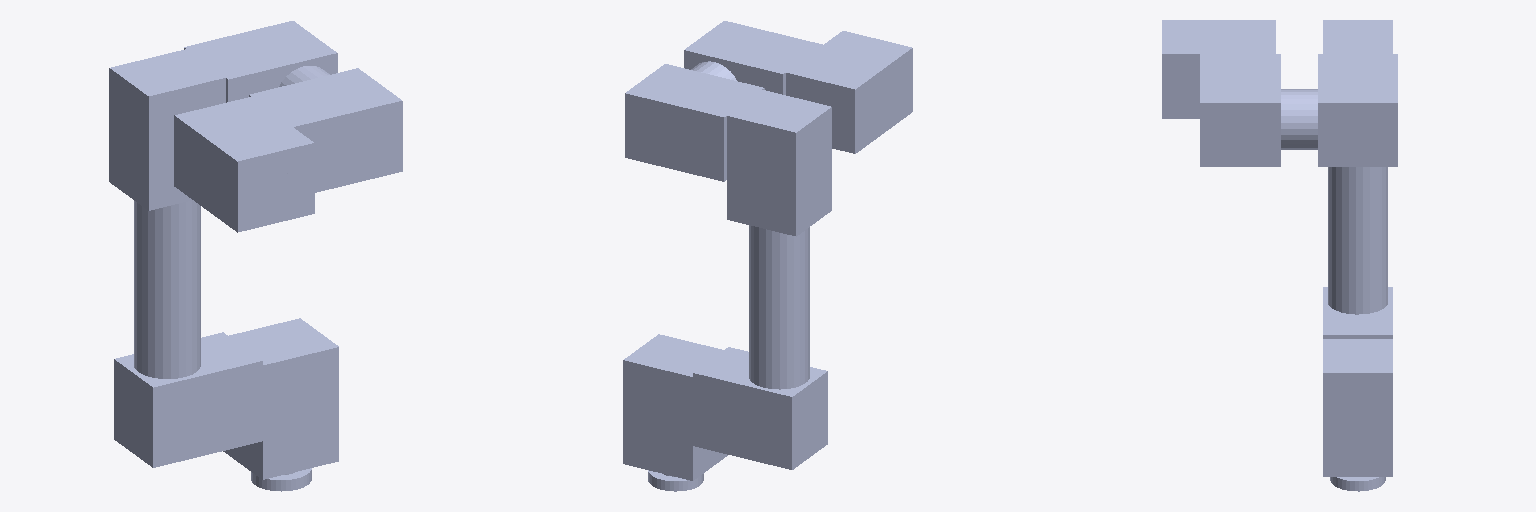
URDF robot description (robotic-arm-urdf-min):
<?xml version="1.0" encoding="utf-8"?>
<!-- This URDF was automatically created by SolidWorks to URDF Exporter! Originally created by [author] ([email redacted]) 
     Commit Version: 1.6.0-4-g7f85cfe  Build Version: 1.6.7995.38578
     For more information, please see http://wiki.ros.org/sw_urdf_exporter -->
<robot
  name="robotic-arm-urdf-min">
  <link
    name="base_link">
    <inertial>
      <origin
        xyz="0 0 0.0075828"
        rpy="0 0 0" />
      <mass
        value="0.026904" />
      <inertia
        ixx="4.2244E-06"
        ixy="-1.3609E-22"
        ixz="4.4964E-24"
        iyy="4.2244E-06"
        iyz="-4.654E-23"
        izz="6.9345E-06" />
    </inertial>
    <visual>
      <origin
        xyz="0 0 0"
        rpy="0 0 0" />
      <geometry>
        <mesh
          filename="package://robotic-arm-urdf-min/meshes/base_link.STL" />
      </geometry>
      <material
        name="">
        <color
          rgba="0.79216 0.81961 0.93333 1" />
      </material>
    </visual>
    <collision>
      <origin
        xyz="0 0 0"
        rpy="0 0 0" />
      <geometry>
        <mesh
          filename="package://robotic-arm-urdf-min/meshes/base_link.STL" />
      </geometry>
    </collision>
  </link>
  <link
    name="link_1">
    <inertial>
      <origin
        xyz="-0.00047629 6.9389E-18 -0.051912"
        rpy="0 0 0" />
      <mass
        value="0.46378" />
      <inertia
        ixx="0.00056635"
        ixy="9.8213E-21"
        ixz="-4.2165E-06"
        iyy="0.00060589"
        iyz="4.679E-21"
        izz="0.00036421" />
    </inertial>
    <visual>
      <origin
        xyz="0 0 0"
        rpy="0 0 0" />
      <geometry>
        <mesh
          filename="package://robotic-arm-urdf-min/meshes/link_1.STL" />
      </geometry>
      <material
        name="">
        <color
          rgba="0.79216 0.81961 0.93333 1" />
      </material>
    </visual>
    <collision>
      <origin
        xyz="0 0 0"
        rpy="0 0 0" />
      <geometry>
        <mesh
          filename="package://robotic-arm-urdf-min/meshes/link_1.STL" />
      </geometry>
    </collision>
  </link>
  <joint
    name="joint_1"
    type="revolute">
    <origin
      xyz="0 0 0.02"
      rpy="-3.1416 0 3.1416" />
    <parent
      link="base_link" />
    <child
      link="link_1" />
    <axis
      xyz="0 0 -1" />
    <limit
      lower="-3.14"
      upper="3.14"
      effort="300"
      velocity="3" />
  </joint>
  <link
    name="link_2">
    <inertial>
      <origin
        xyz="-2.7756E-17 0.052102 0.06051"
        rpy="0 0 0" />
      <mass
        value="0.84392" />
      <inertia
        ixx="0.0014887"
        ixy="2.3214E-19"
        ixz="8.5887E-20"
        iyy="0.00071009"
        iyz="4.2165E-06"
        izz="0.001247" />
    </inertial>
    <visual>
      <origin
        xyz="0 0 0"
        rpy="0 0 0" />
      <geometry>
        <mesh
          filename="package://robotic-arm-urdf-min/meshes/link_2.STL" />
      </geometry>
      <material
        name="">
        <color
          rgba="0.79216 0.81961 0.93333 1" />
      </material>
    </visual>
    <collision>
      <origin
        xyz="0 0 0"
        rpy="0 0 0" />
      <geometry>
        <mesh
          filename="package://robotic-arm-urdf-min/meshes/link_2.STL" />
      </geometry>
    </collision>
  </link>
  <joint
    name="joint_2"
    type="revolute">
    <origin
      xyz="0.03625 0 -0.071"
      rpy="-1.5707963267949 0 -1.5707963267949" />
    <parent
      link="link_1" />
    <child
      link="link_2" />
    <axis
      xyz="0 0 -1" />
    <limit
      lower="-1.57"
      upper="1.57"
      effort="300"
      velocity="3" />
  </joint>
  <link
    name="link_3">
    <inertial>
      <origin
        xyz="0.00047629 -6.9389E-18 -0.051912"
        rpy="0 0 0" />
      <mass
        value="0.46378" />
      <inertia
        ixx="0.00056635"
        ixy="-1.2546E-20"
        ixz="4.2165E-06"
        iyy="0.00060589"
        iyz="1.2832E-20"
        izz="0.00036421" />
    </inertial>
    <visual>
      <origin
        xyz="0 0 0"
        rpy="0 0 0" />
      <geometry>
        <mesh
          filename="package://robotic-arm-urdf-min/meshes/link_3.STL" />
      </geometry>
      <material
        name="">
        <color
          rgba="0.79216 0.81961 0.93333 1" />
      </material>
    </visual>
    <collision>
      <origin
        xyz="0 0 0"
        rpy="0 0 0" />
      <geometry>
        <mesh
          filename="package://robotic-arm-urdf-min/meshes/link_3.STL" />
      </geometry>
    </collision>
  </link>
  <joint
    name="joint_3"
    type="revolute">
    <origin
      xyz="0 0.19625 0.0709999999999999"
      rpy="1.5707963267949 -1.5707963267949 0" />
    <parent
      link="link_2" />
    <child
      link="link_3" />
    <axis
      xyz="0 0 -1" />
    <limit
      lower="-3.14"
      upper="3.14"
      effort="300"
      velocity="3" />
  </joint>
  <link
    name="link_4">
    <inertial>
      <origin
        xyz="0.00047629 5.5511E-17 -0.051912"
        rpy="0 0 0" />
      <mass
        value="0.46378" />
      <inertia
        ixx="0.00056635"
        ixy="-2.7474E-20"
        ixz="4.2165E-06"
        iyy="0.00060589"
        iyz="-5.988E-20"
        izz="0.00036421" />
    </inertial>
    <visual>
      <origin
        xyz="0 0 0"
        rpy="0 0 0" />
      <geometry>
        <mesh
          filename="package://robotic-arm-urdf-min/meshes/link_4.STL" />
      </geometry>
      <material
        name="">
        <color
          rgba="0.79216 0.81961 0.93333 1" />
      </material>
    </visual>
    <collision>
      <origin
        xyz="0 0 0"
        rpy="0 0 0" />
      <geometry>
        <mesh
          filename="package://robotic-arm-urdf-min/meshes/link_4.STL" />
      </geometry>
    </collision>
  </link>
  <joint
    name="joint_4"
    type="revolute">
    <origin
      xyz="-0.03625 0 -0.071"
      rpy="-1.5708 0 -1.5708" />
    <parent
      link="link_3" />
    <child
      link="link_4" />
    <axis
      xyz="0 0 -1" />
    <limit
      lower="-3.14"
      upper="0"
      effort="300"
      velocity="3" />
  </joint>
  <link
    name="link_5">
    <inertial>
      <origin
        xyz="0.012371 5.5511E-17 0.11115"
        rpy="0 0 0" />
      <mass
        value="0.71562" />
      <inertia
        ixx="0.00064763"
        ixy="-1.7045E-20"
        ixz="4.2165E-06"
        iyy="0.00088931"
        iyz="1.1216E-19"
        izz="0.00066158" />
    </inertial>
    <visual>
      <origin
        xyz="0 0 0"
        rpy="0 0 0" />
      <geometry>
        <mesh
          filename="package://robotic-arm-urdf-min/meshes/link_5.STL" />
      </geometry>
      <material
        name="">
        <color
          rgba="0.79216 0.81961 0.93333 1" />
      </material>
    </visual>
    <collision>
      <origin
        xyz="0 0 0"
        rpy="0 0 0" />
      <geometry>
        <mesh
          filename="package://robotic-arm-urdf-min/meshes/link_5.STL" />
      </geometry>
    </collision>
  </link>
  <joint
    name="joint_5"
    type="revolute">
    <origin
      xyz="-0.03625 0 -0.071"
      rpy="3.14159265358979 -1.5707963267949 0" />
    <parent
      link="link_4" />
    <child
      link="link_5" />
    <axis
      xyz="0 0 -1" />
    <limit
      lower="-3.14"
      upper="3.14"
      effort="300"
      velocity="3" />
  </joint>
  <link
    name="link_6">
    <inertial>
      <origin
        xyz="-0.019088 0 0.036726"
        rpy="0 0 0" />
      <mass
        value="0.46378" />
      <inertia
        ixx="0.00036421"
        ixy="-2.5168E-19"
        ixz="-4.2165E-06"
        iyy="0.00060589"
        iyz="2.5488E-21"
        izz="0.00056635" />
    </inertial>
    <visual>
      <origin
        xyz="0 0 0"
        rpy="0 0 0" />
      <geometry>
        <mesh
          filename="package://robotic-arm-urdf-min/meshes/link_6.STL" />
      </geometry>
      <material
        name="">
        <color
          rgba="0.79216 0.81961 0.93333 1" />
      </material>
    </visual>
    <collision>
      <origin
        xyz="0 0 0"
        rpy="0 0 0" />
      <geometry>
        <mesh
          filename="package://robotic-arm-urdf-min/meshes/link_6.STL" />
      </geometry>
    </collision>
  </link>
  <joint
    name="joint_6"
    type="revolute">
    <origin
      xyz="0.071 0 0.14225"
      rpy="0 1.5707963267949 0" />
    <parent
      link="link_5" />
    <child
      link="link_6" />
    <axis
      xyz="0 0 -1" />
    <limit
      lower="-1.57"
      upper="1.57"
      effort="300"
      velocity="3" />
  </joint>
  <link
    name="link_7">
    <inertial>
      <origin
        xyz="2.7756E-17 0 0.012417"
        rpy="0 0 0" />
      <mass
        value="0.026904" />
      <inertia
        ixx="4.2244E-06"
        ixy="6.2303E-25"
        ixz="4.2046E-22"
        iyy="4.2244E-06"
        iyz="-1.7212E-22"
        izz="6.9345E-06" />
    </inertial>
    <visual>
      <origin
        xyz="0 0 0"
        rpy="0 0 0" />
      <geometry>
        <mesh
          filename="package://robotic-arm-urdf-min/meshes/link_7.STL" />
      </geometry>
      <material
        name="">
        <color
          rgba="0.79216 0.81961 0.93333 1" />
      </material>
    </visual>
    <collision>
      <origin
        xyz="0 0 0"
        rpy="0 0 0" />
      <geometry>
        <mesh
          filename="package://robotic-arm-urdf-min/meshes/link_7.STL" />
      </geometry>
    </collision>
  </link>
  <joint
    name="joint_7"
    type="revolute">
    <origin
      xyz="-0.071 0 0.03625"
      rpy="3.14159265358979 -1.5707963267949 0" />
    <parent
      link="link_6" />
    <child
      link="link_7" />
    <axis
      xyz="0 0 -1" />
    <limit
      lower="-3.14"
      upper="3.14"
      effort="300"
      velocity="3" />
  </joint>
</robot>

--- Facts derived from the render (not from the file) ---
Views: 3 orthographic renders of the robot side by side, from view 1: azimuth 30°, elevation 25°; view 2: azimuth 150°, elevation 25°; view 3: azimuth 270°, elevation 25°.
Robot: robotic-arm-urdf-min — 8 links, 7 joints (7 revolute); root link base_link; default pose: every joint at zero.
Visible links, largest first — view 1: link_2, link_6, link_1, link_3, link_5, link_4, base_link, link_7; view 2: link_2, link_3, link_1, link_6, link_4, link_5, base_link; view 3: link_5, link_2, link_1, link_4, link_6, link_3, base_link.
Boxes of the visible links, left/top/right/bottom form: link_2: left=114, top=200, right=262, bottom=467; link_6: left=174, top=97, right=314, bottom=232; link_1: left=223, top=318, right=338, bottom=479; link_3: left=109, top=49, right=225, bottom=210; link_5: left=249, top=66, right=402, bottom=192; link_4: left=184, top=21, right=337, bottom=102; base_link: left=251, top=468, right=311, bottom=491; link_7: left=260, top=171, right=291, bottom=204; link_2: left=693, top=225, right=827, bottom=469; link_3: left=727, top=90, right=831, bottom=236; link_1: left=623, top=334, right=727, bottom=480; link_6: left=786, top=31, right=912, bottom=153; link_4: left=625, top=64, right=764, bottom=181; link_5: left=630, top=21, right=822, bottom=160; base_link: left=648, top=470, right=703, bottom=491; link_5: left=1200, top=54, right=1317, bottom=166; link_2: left=1323, top=167, right=1392, bottom=338; link_1: left=1323, top=339, right=1392, bottom=476; link_4: left=1318, top=54, right=1397, bottom=166; link_6: left=1162, top=20, right=1275, bottom=118; link_3: left=1323, top=20, right=1392, bottom=53; base_link: left=1330, top=477, right=1385, bottom=491.
Bounding box of the posed robot: 0.1798 × 0.2133 × 0.3923 m (x, y, z).
Meshes: 8 distinct files referenced, 8 mesh visuals loaded (8 binary STL).